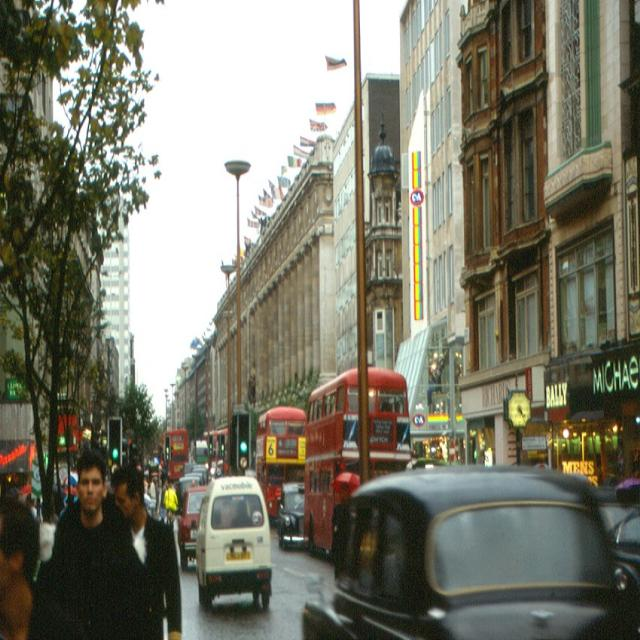body: (49, 444, 137, 640), (0, 459, 78, 640), (108, 463, 182, 640), (102, 454, 183, 516), (328, 478, 359, 606), (210, 457, 262, 530), (613, 448, 640, 510), (276, 490, 297, 546), (163, 483, 180, 530), (379, 393, 406, 415)
